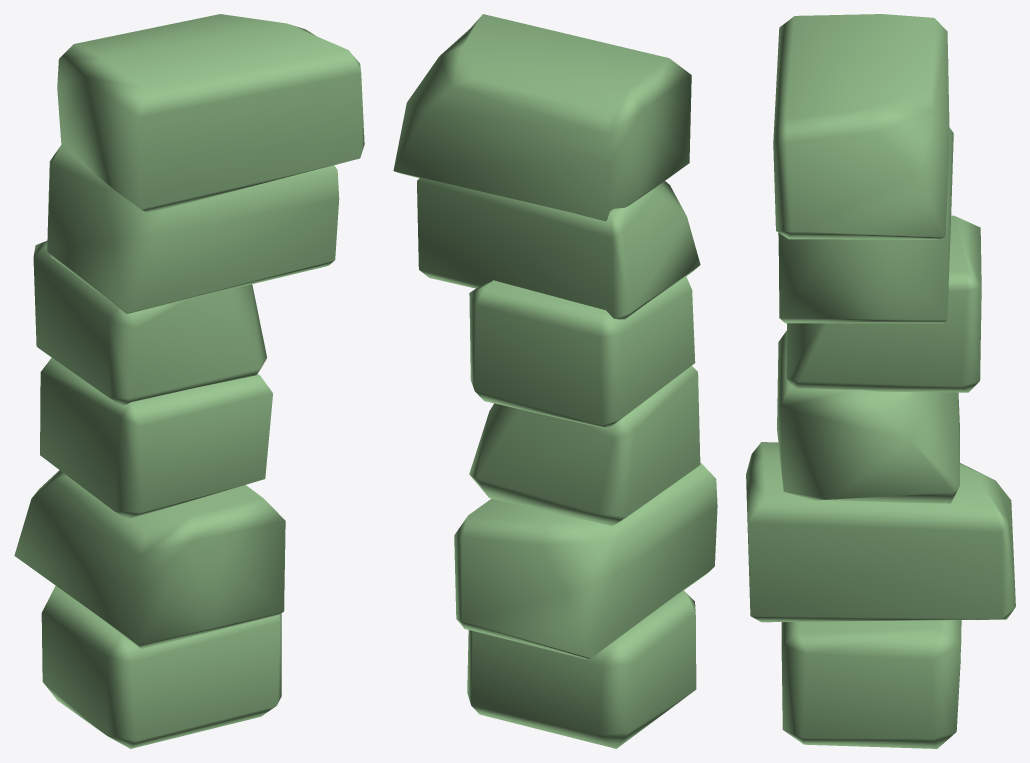
File: Slab_Wall_01_Half_Lod1.fbx
The picture shows the model from 3 angles, left to right: view 1: azimuth 30°, elevation 25°; view 2: azimuth 150°, elevation 25°; view 3: azimuth 270°, elevation 25°; orthographic projection. The views are drawn at different scales.
Parts seen in each view (by area): view 1: Slab_Wall_01_Half_Lod1; view 2: Slab_Wall_01_Half_Lod1; view 3: Slab_Wall_01_Half_Lod1.
Boxes of the visible parts, box(x1,y1,x2,y2) form: Slab_Wall_01_Half_Lod1: box(14, 14, 364, 748); Slab_Wall_01_Half_Lod1: box(393, 14, 717, 748); Slab_Wall_01_Half_Lod1: box(746, 14, 1015, 748).
Size of the model in its own units: 59.1 by 148 by 54.09.
